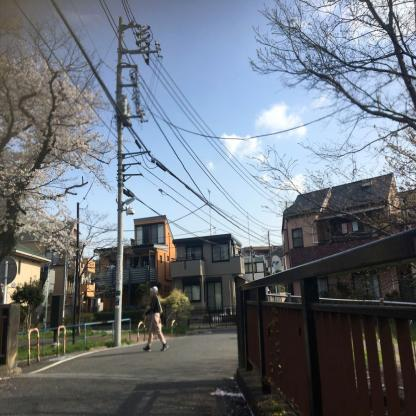Someiyoshino: (0, 1, 124, 260)
